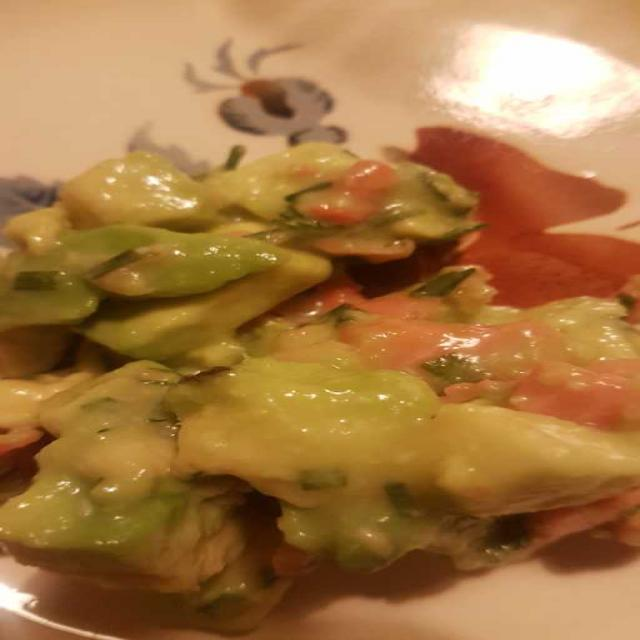avocado: (0, 142, 606, 637)
salmon: (0, 173, 640, 570)
